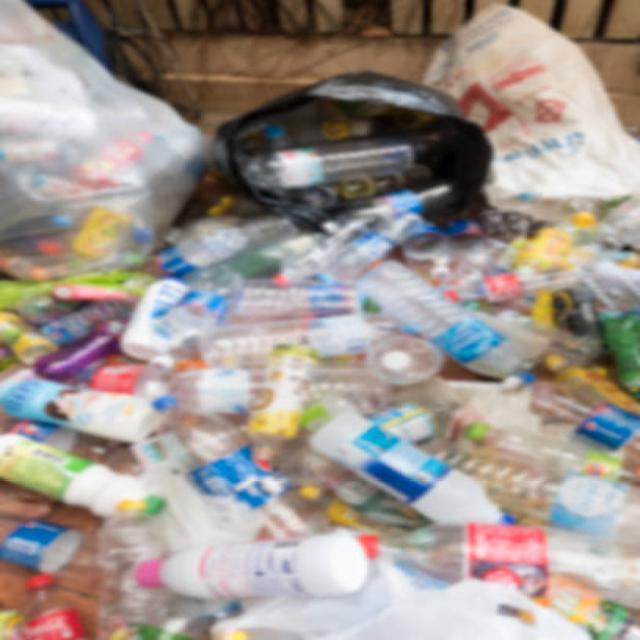plastic: (35, 288, 620, 630)
trash: (1, 17, 602, 213)
